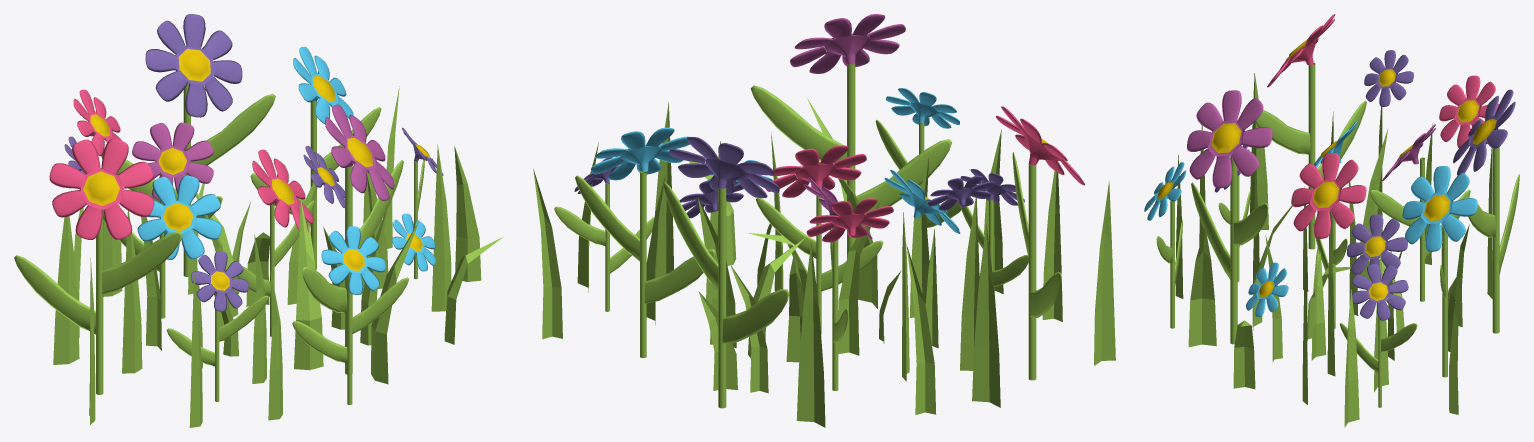
The model's file is FlowerGrassParts.fbx.
The picture shows the model from 3 angles, left to right: view 1: azimuth 30°, elevation 25°; view 2: azimuth 150°, elevation 25°; view 3: azimuth 270°, elevation 25°; orthographic projection. The views are drawn at different scales.
Parts seen in each view (by area): view 1: Trava, flower.008, stabljika, stabljika.001, flower.018, flower.004, flower.006, flower.012, sredinaCveta.007, sredinaCveta.008, sredinaCveta.010, sredinaCveta.009 (+28 smaller); view 2: Trava, flower.018, stabljika, flower.006, flower.008, flower.012, flower.014, flower, flower.004, stabljika.001, sredinaCveta, sredinaCveta.008 (+2 smaller); view 3: Trava, stabljika, flower.008, flower.018, flower, flower.014, stabljika.001, sredinaCveta, flower.006, flower.012, sredinaCveta.003, sredinaCveta.002 (+28 smaller).
Boxes of the visible parts, x1,y1,x2,y2 form: Trava: (53,86,502,427); flower.008: (14,210,182,394); stabljika: (302,160,403,374); stabljika.001: (292,272,408,404); flower.018: (101,83,275,276); flower.004: (166,292,268,401); flower.006: (250,101,381,270); flower.012: (237,200,314,336); sredinaCveta.007: (79,168,123,209); sredinaCveta.008: (175,46,214,85); sredinaCveta.010: (160,200,196,233); sredinaCveta.009: (155,145,190,177); Trava: (533,98,1115,427); flower.018: (663,181,789,408); stabljika: (750,63,951,257); flower.006: (575,171,715,357); flower.008: (1012,152,1061,380); flower.012: (756,188,883,334); flower.014: (554,183,654,311); flower: (830,224,848,390); flower.004: (960,196,1028,286); stabljika.001: (875,120,970,227); sredinaCveta: (824,33,871,64); sredinaCveta.008: (705,158,748,188); Trava: (1175,73,1492,427); stabljika: (1191,155,1268,344); flower.008: (1255,63,1366,249); flower.018: (1465,147,1519,333); flower: (1370,157,1470,301); flower.014: (1339,318,1417,407); stabljika.001: (1156,201,1182,328); sredinaCveta: (1208,120,1244,156); flower.006: (1440,226,1447,377); flower.012: (1313,213,1347,328); sredinaCveta.003: (1421,192,1453,223); sredinaCveta.002: (1309,179,1341,211).
Size of the model in its own units: 5.71 by 3.2 by 4.35.
